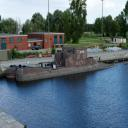submarine: (18, 48, 119, 82), (8, 47, 75, 80)
